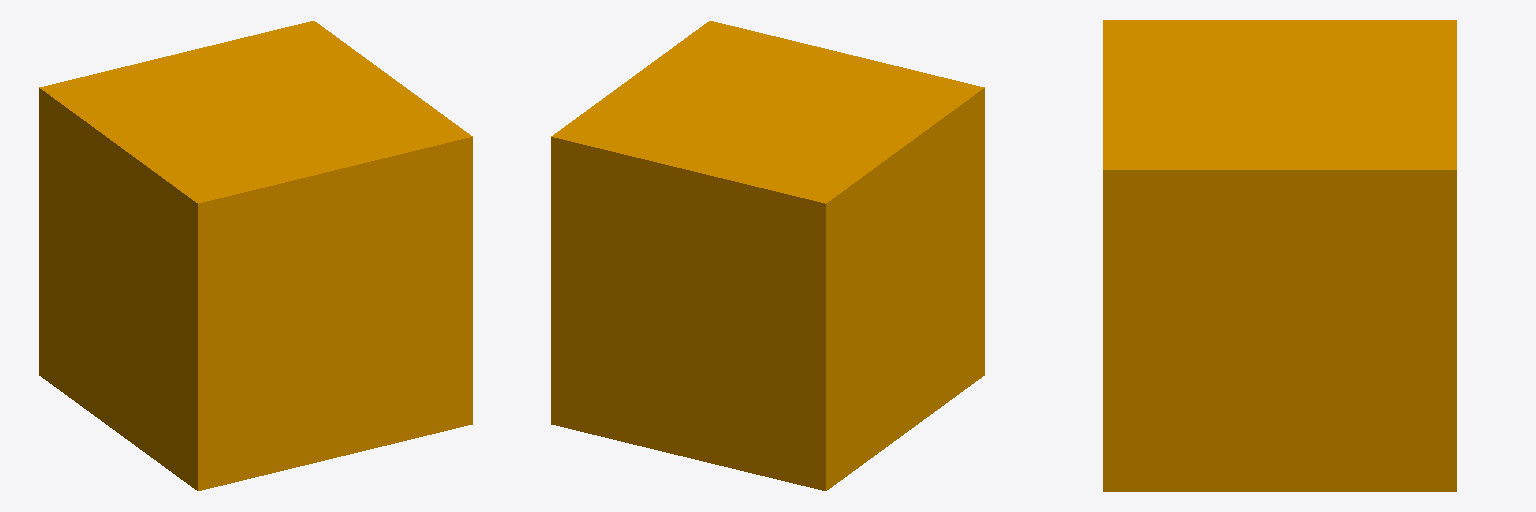
robot.urdf — panda:
<?xml version='1.0' encoding='utf-8'?>
<robot name="panda">

    <link name="link0">
      <inertial>
        <origin xyz="0 0 0.05" rpy="0 0 0" />
        <mass value="4" />
        <inertia ixx="0.4" iyy="0.4" izz="0.4" ixy="0" ixz="0" iyz="0" />
      </inertial>
      <visual>
        <geometry>
          <mesh filename="../../../../examples/models/panda/meshes/visual/link0.obj"/>
        </geometry>
      </visual>
<!--       <collision>
        <geometry>
          <mesh filename="../../../../examples/models/panda/meshes/collision/link0.obj"/>
        </geometry>
      </collision> -->
    </link>
    <link name="link1">
      <inertial>
        <origin xyz="0 0 -0.07" rpy="0 -0 0" />
        <mass value="3" />
        <inertia ixx="0.3" iyy="0.3" izz="0.3" ixy="0" ixz="0" iyz="0" />
      </inertial>
      <visual>
        <geometry>
          <mesh filename="../../../../examples/models/panda/meshes/visual/link1.obj"/>
        </geometry>
      </visual>
      <!-- <collision>
        <geometry>
          <mesh filename="../../../../examples/models/panda/meshes/collision/link1.obj"/>
        </geometry>
      </collision> -->
    </link>
    <link name="link2">
      <inertial>
        <origin xyz="0 -0.1 0" rpy="0 -0 0" />
        <mass value="3" />
        <inertia ixx="0.3" iyy="0.3" izz="0.3" ixy="0" ixz="0" iyz="0" />
      </inertial>
      <visual>
        <geometry>
          <mesh filename="../../../../examples/models/panda/meshes/visual/link2.obj"/>
        </geometry>
      </visual>
      <!-- <collision>
        <geometry>
          <mesh filename="../../../../examples/models/panda/meshes/collision/link2.obj"/>
        </geometry>
      </collision> -->
    </link>
    <link name="link3">
      <inertial>
        <origin xyz="0.04 0 -0.05" rpy="0 -0 0" />
        <mass value="2" />
        <inertia ixx="0.2" iyy="0.2" izz="0.2" ixy="0" ixz="0" iyz="0" />
      </inertial>
      <visual>
        <geometry>
          <mesh filename="../../../../examples/models/panda/meshes/visual/link3.obj"/>
        </geometry>
      </visual>
      <!-- <collision>
        <geometry>
          <mesh filename="../../../../examples/models/panda/meshes/collision/link3.obj"/>
        </geometry>
      </collision> -->
    </link>
    <link name="link4">
      <inertial>
        <origin xyz="-0.04 0.05 0" rpy="0 -0 0" />
        <mass value="2" />
        <inertia ixx="0.2" iyy="0.2" izz="0.2" ixy="0" ixz="0" iyz="0" />
      </inertial>
      <visual>
        <geometry>
          <mesh filename="../../../../examples/models/panda/meshes/visual/link4.obj"/>
        </geometry>
      </visual>   
<!--       <collision>
        <geometry>
          <mesh filename="../../../../examples/models/panda/meshes/collision/link4.obj"/>
        </geometry>
      </collision> -->
    </link>
    <link name="link5">
      <inertial>
        <origin xyz="0 0 -0.15" rpy="0 -0 0" />
        <mass value="2" />
        <inertia ixx="0.2" iyy="0.2" izz="0.2" ixy="0" ixz="0" iyz="0" />
      </inertial>
      <visual>
        <geometry>
          <mesh filename="../../../../examples/models/panda/meshes/visual/link5.obj"/>
        </geometry>
      </visual>
<!--       <collision>
        <geometry>
          <mesh filename="../../../../examples/models/panda/meshes/collision/link5.obj"/>
        </geometry>
      </collision> -->
    </link>
    <link name="link6">
      <inertial>
        <origin xyz="0.06 0 0" rpy="0 -0 0" />
        <mass value="1.5" />
        <inertia ixx="0.1" iyy="0.1" izz="0.1" ixy="0" ixz="0" iyz="0" />
      </inertial>
      <visual>
        <geometry>
          <mesh filename="../../../../examples/models/panda/meshes/visual/link6.obj"/>
        </geometry>
      </visual>
      <!-- <collision>
        <geometry>
          <mesh filename="../../../../examples/models/panda/meshes/collision/link6.obj"/>
        </geometry>
      </collision> -->
    </link>
    <link name="link7">
      <inertial>
        <origin xyz="0 0 0.17" rpy="0 -0 0" />
        <mass value="1.8" />
        <inertia ixx="0.09" iyy="0.05" izz="0.07" ixy="0" ixz="0" iyz="0" />
      </inertial>
      <visual>
        <geometry>
          <mesh filename="../../../../examples/models/panda/meshes/visual/link7.obj"/>
        </geometry>
      </visual>
      <!-- <collision>
        <geometry>
          <mesh filename="../../../../examples/models/panda/meshes/collision/link7.obj"/>
        </geometry>
      </collision> -->
    </link>
    <link name="end-effector">
      <inertial>
        <origin xyz="0 0 0" rpy="0 -0 0" />
        <mass value="0.2" />
        <inertia ixx="0.01" iyy="0.01" izz="0.01" ixy="0" ixz="0" iyz="0" />
      </inertial>
      <visual>
        <geometry>
          <box size="0.06 0.06 0.06" />
        </geometry>
      </visual>
      <collision>
        <geometry>
          <box size="0.06 0.06 0.06" />
        </geometry>
      </collision>
    </link>
  
    <joint name="joint1" type="revolute">
      <safety_controller k_position="100.0" k_velocity="40.0" soft_lower_limit="-2.8973" soft_upper_limit="2.8973"/>
      <origin rpy="0 0 0" xyz="0 0 0.333"/>
      <!-- <origin rpy="1.57079632679 0 1.57079632679" xyz="0.333 0 0.8"/> -->
      <parent link="link0"/>
      <child link="link1"/>
      <axis xyz="0 0 1"/>
      <calibration falling="0.0" />
      <limit effort="87" lower="-2.8973" upper="2.8973" velocity="2.1750"/>
    </joint>
    <joint name="joint2" type="revolute">
      <safety_controller k_position="100.0" k_velocity="40.0" soft_lower_limit="-1.7628" soft_upper_limit="1.7628"/>
      <origin rpy="-1.57079632679 0 0" xyz="0 0 0"/>
      <parent link="link1"/>
      <child link="link2"/>
      <axis xyz="0 0 1"/>
      <calibration falling="-25.0" />
      <limit effort="87" lower="-1.7628" upper="1.7628" velocity="2.1750"/>
    </joint>
    <joint name="joint3" type="revolute">
      <safety_controller k_position="100.0" k_velocity="40.0" soft_lower_limit="-2.8973" soft_upper_limit="2.8973"/>
      <origin rpy="1.57079632679 0 0" xyz="0 -0.316 0"/>
      <parent link="link2"/>
      <child link="link3"/>
      <axis xyz="0 0 1"/>
      <limit effort="87" lower="-2.8973" upper="2.8973" velocity="2.1750"/>
    </joint>
    <joint name="joint4" type="revolute">
      <safety_controller k_position="100.0" k_velocity="40.0" soft_lower_limit="-3.0718" soft_upper_limit="-0.0698"/>
      <origin rpy="1.57079632679 0 0" xyz="0.0825 0 0"/>
      <parent link="link3"/>
      <child link="link4"/>
      <axis xyz="0 0 1"/>
      <calibration falling="-135.0" />
      <limit effort="87" lower="-3.0718" upper="-0.0698" velocity="2.1750"/>
    </joint>
    <joint name="joint5" type="revolute">
      <safety_controller k_position="100.0" k_velocity="40.0" soft_lower_limit="-2.8973" soft_upper_limit="2.8973"/>
      <origin rpy="-1.57079632679 0 0" xyz="-0.0825 0.384 0"/>
      <parent link="link4"/>
      <child link="link5"/>
      <axis xyz="0 0 1"/>
      <calibration falling="0.0" />
      <limit effort="12" lower="-2.8973" upper="2.8973" velocity="2.6100"/>
    </joint>
    <joint name="joint6" type="revolute">
      <safety_controller k_position="100.0" k_velocity="40.0" soft_lower_limit="-0.0175" soft_upper_limit="3.7525"/>
      <origin rpy="1.57079632679 0 0" xyz="0 0 0"/>
      <parent link="link5"/>
      <child link="link6"/>
      <axis xyz="0 0 1"/>
      <calibration falling="105.0" />
      <limit effort="12" lower="-0.0175" upper="3.7525" velocity="2.6100"/>
    </joint>
    <joint name="joint7" type="revolute">
      <safety_controller k_position="100.0" k_velocity="40.0" soft_lower_limit="-2.8973" soft_upper_limit="2.8973"/>
      <origin rpy="1.57079632679 0 0" xyz="0.088 0 0"/>
      <parent link="link6"/>
      <child link="link7"/>
      <axis xyz="0 0 1"/>
      <limit effort="12" lower="-2.8973" upper="2.8973" velocity="2.6100"/>
    </joint>
    <joint name="joint_ee" type="fixed">
      <!-- <safety_controller k_position="100.0" k_velocity="40.0" soft_lower_limit="-2.8973" soft_upper_limit="2.8973"/> -->
      <origin rpy="0 0 0" xyz="0 0 0.14"/>
      <parent link="link7"/>
      <child link="end-effector"/>
      <!-- <axis xyz="0 0 1"/> -->
      <!-- <limit effort="12" lower="-2.8973" upper="2.8973" velocity="2.6100"/> -->
    </joint>
</robot>

--- Render facts (derived) ---
The picture shows the robot from 3 angles, left to right: view 1: azimuth 30°, elevation 25°; view 2: azimuth 150°, elevation 25°; view 3: azimuth 270°, elevation 25°; orthographic projection.
Model panda with 9 links and 8 joints (7 revolute, 1 fixed), rooted at link0, posed all joints at 0 but 1 set to mid-range because 0 is outside their limits (joint4 = -1.57).
Links seen in each view (by area): view 1: end-effector; view 2: end-effector; view 3: end-effector.
Boxes of the visible links, bbox=[...] form: end-effector: bbox=[39, 21, 472, 490]; end-effector: bbox=[551, 21, 984, 490]; end-effector: bbox=[1103, 20, 1456, 491].
Bounding box of the posed robot: 0.06 × 0.06 × 0.06 m (x, y, z).
Geometry: only primitive shapes (box / cylinder / sphere) drawn; not drawn: 8 mesh visuals (reference in a form the renderer does not follow).